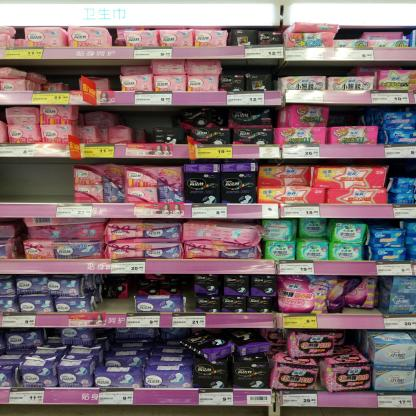empty_space: (0, 157, 74, 217)
